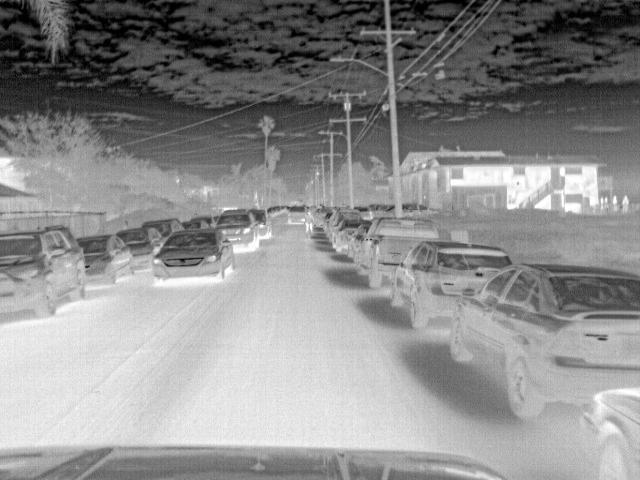car: (452, 262, 639, 422), (388, 242, 512, 331), (1, 225, 90, 321), (356, 216, 442, 290), (149, 225, 236, 286), (75, 232, 134, 289), (116, 226, 164, 275), (212, 209, 257, 254), (334, 216, 376, 252), (141, 216, 185, 242), (244, 209, 268, 237), (402, 200, 438, 218), (286, 203, 310, 224), (312, 207, 330, 226)
person: (303, 209, 316, 234), (620, 194, 631, 216), (611, 195, 620, 215)
